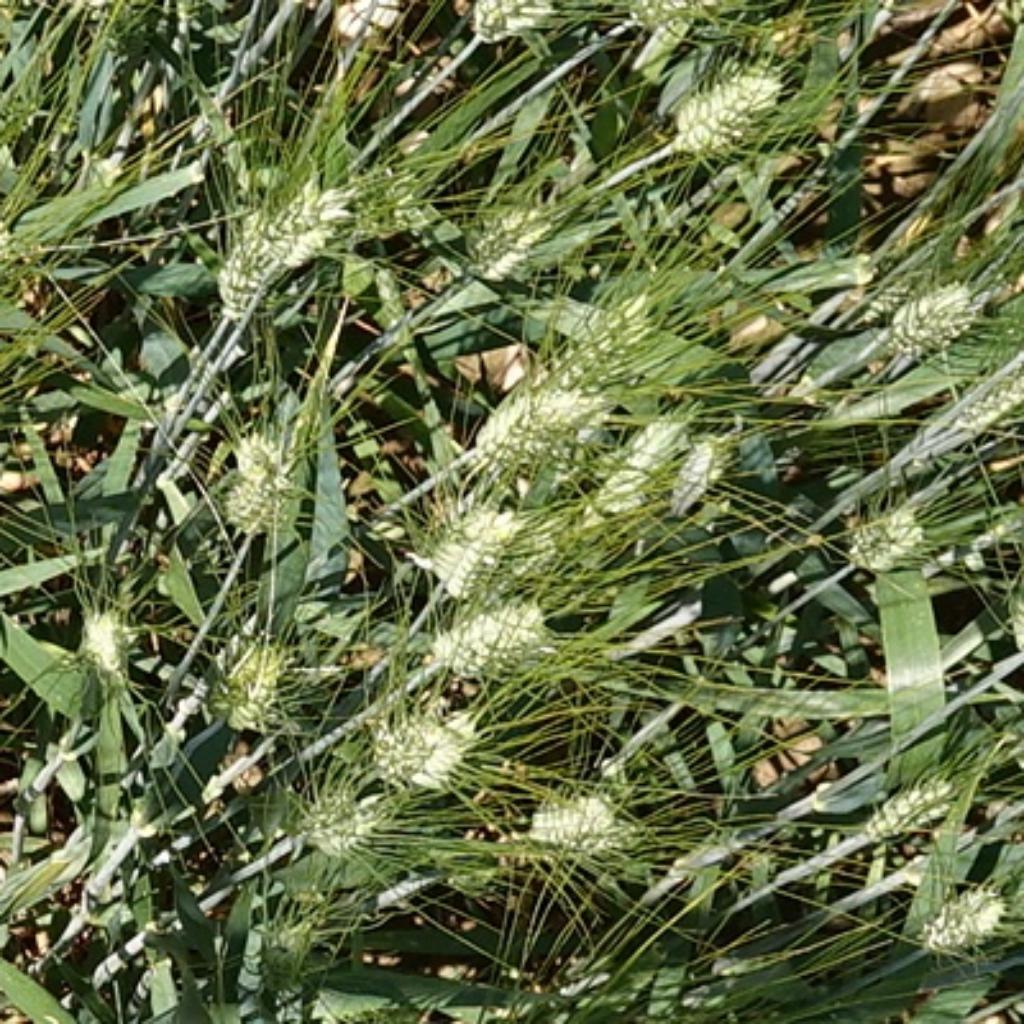0-0: (207, 163, 337, 325), (391, 496, 537, 611), (476, 361, 622, 474), (186, 609, 307, 732), (417, 583, 570, 680), (450, 171, 583, 281), (903, 360, 1024, 471), (581, 284, 645, 485), (355, 688, 481, 785), (209, 422, 314, 537), (865, 256, 985, 353), (590, 401, 690, 516), (514, 775, 632, 860), (238, 898, 330, 1006), (284, 770, 389, 860), (664, 64, 780, 145), (903, 865, 1008, 949), (66, 588, 143, 686), (272, 183, 369, 260), (665, 424, 742, 504), (427, 0, 557, 45), (876, 778, 962, 844), (847, 504, 931, 570)
